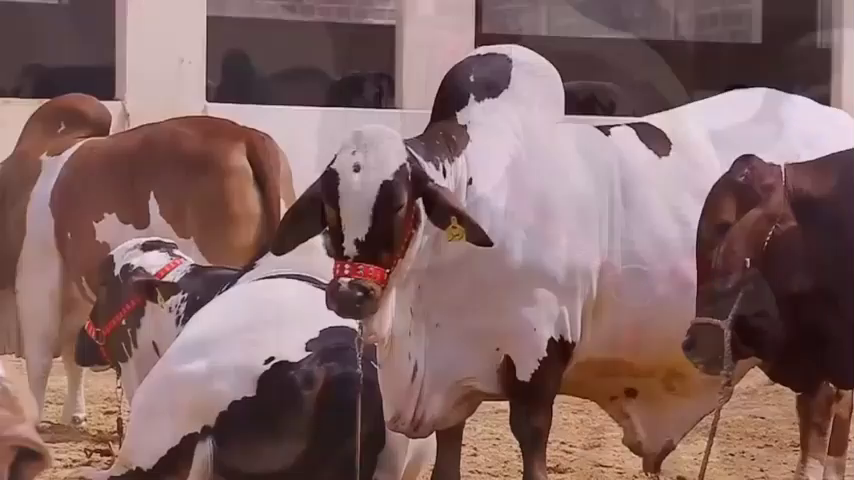bo: (273, 54, 854, 480), (1, 90, 300, 419), (63, 246, 448, 480)
